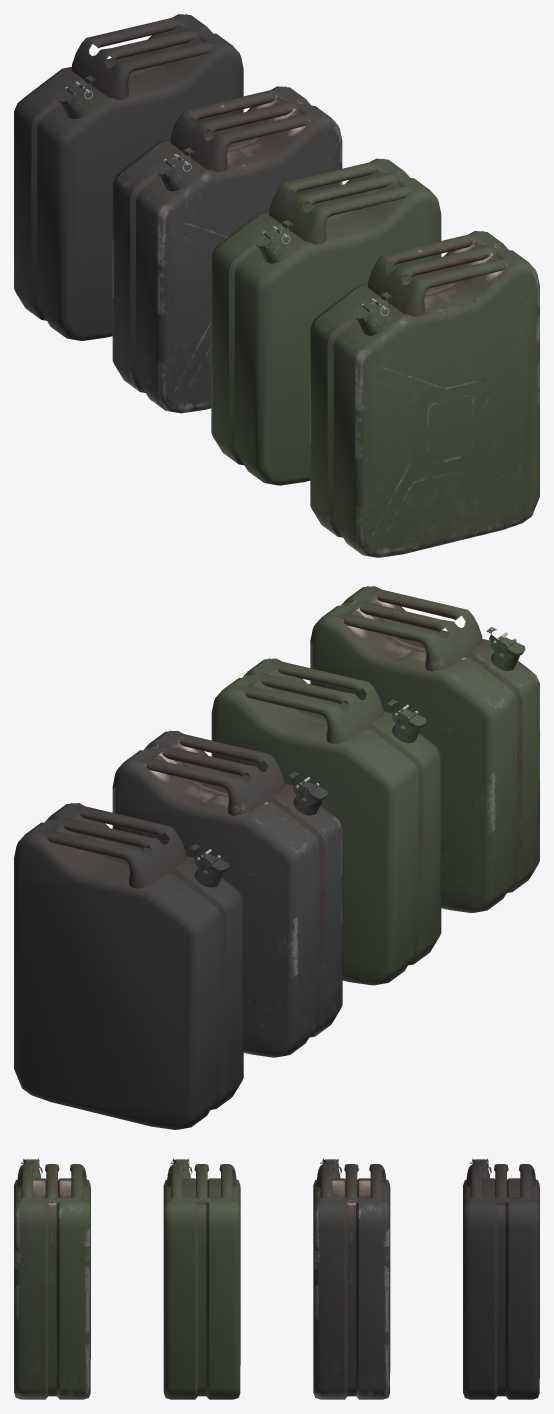
The model's file is jerry.glb.
3 views of the same model, one above another, from view 1: azimuth 30°, elevation 25°; view 2: azimuth 150°, elevation 25°; view 3: azimuth 270°, elevation 25° (orthographic). The views are drawn at different scales.
Visible parts, largest first — view 1: JerryCan004_08 - Default_0, JerryCan003_07 - Default_0, JerryCan002_03 - Default_0, JerryCan001_02 - Default_0; view 2: JerryCan001_02 - Default_0, JerryCan002_03 - Default_0, JerryCan003_07 - Default_0, JerryCan004_08 - Default_0; view 3: JerryCan003_07 - Default_0, JerryCan002_03 - Default_0, JerryCan001_02 - Default_0, JerryCan004_08 - Default_0.
Part boxes in pixels (left/top/right/bottom): JerryCan004_08 - Default_0: left=310, top=231, right=539, bottom=557; JerryCan003_07 - Default_0: left=211, top=158, right=441, bottom=485; JerryCan002_03 - Default_0: left=112, top=86, right=342, bottom=413; JerryCan001_02 - Default_0: left=14, top=14, right=243, bottom=340; JerryCan001_02 - Default_0: left=14, top=803, right=243, bottom=1129; JerryCan002_03 - Default_0: left=112, top=730, right=342, bottom=1057; JerryCan003_07 - Default_0: left=211, top=658, right=441, bottom=985; JerryCan004_08 - Default_0: left=310, top=586, right=539, bottom=912; JerryCan003_07 - Default_0: left=163, top=1158, right=240, bottom=1399; JerryCan002_03 - Default_0: left=313, top=1158, right=390, bottom=1399; JerryCan001_02 - Default_0: left=463, top=1158, right=539, bottom=1399; JerryCan004_08 - Default_0: left=14, top=1159, right=90, bottom=1399.
Bounding box in the file's own units: 0.5463 × 0.7481 × 1.77.
4 materials, 4 textured.
